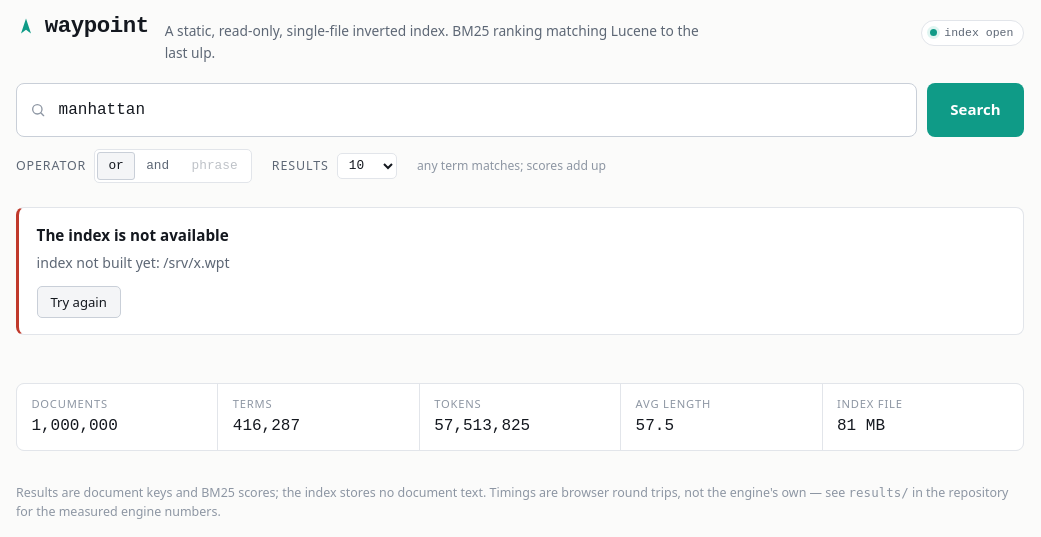
Test: when the index cannot serve the request › offers a retry for a failure the user cannot fix by editing the query
Step 1. Click the button "Try again" → point(79, 302), box [37, 286, 121, 318]
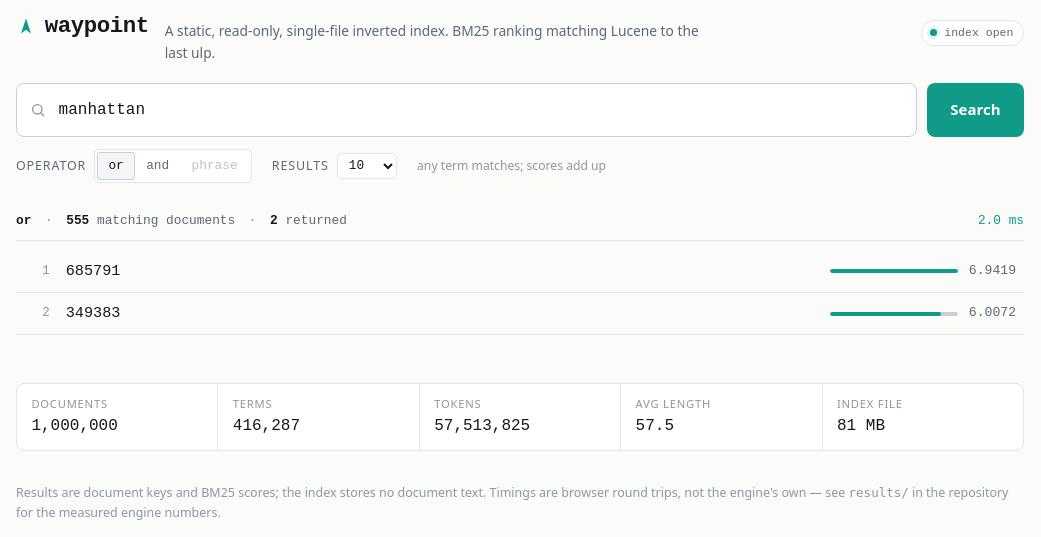
Now the text "685791" is shown, box [66, 260, 120, 283]
